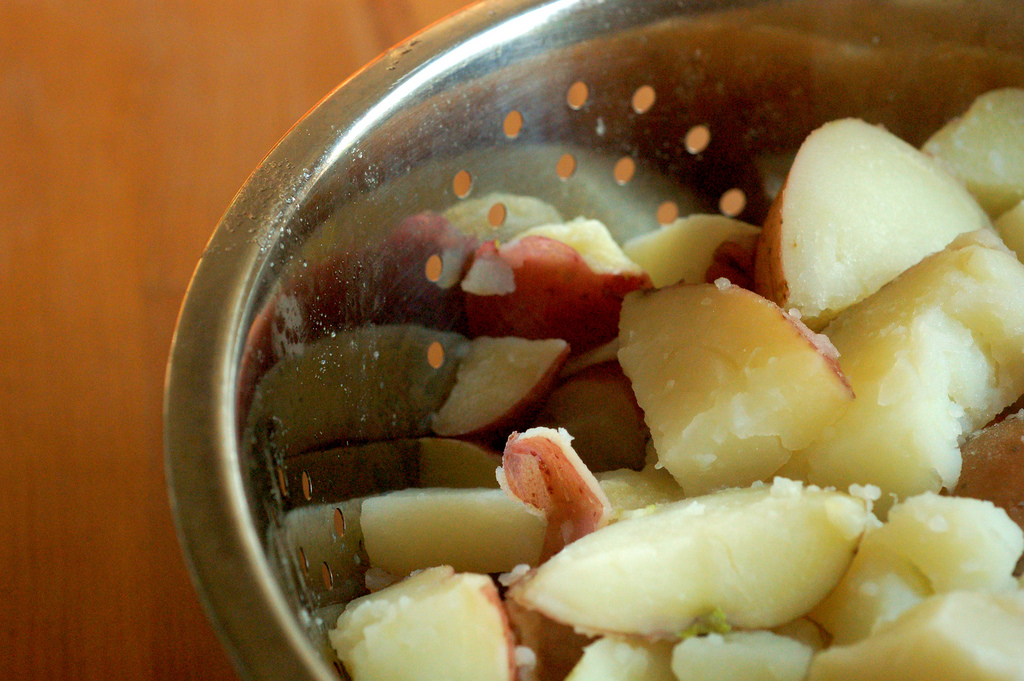boiled potatoes: (642, 265, 947, 676)
